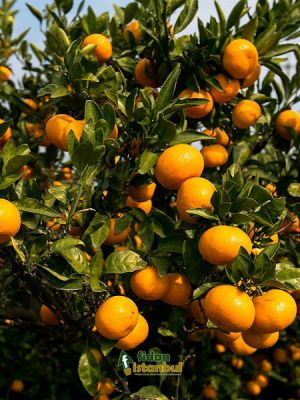portakal: (190, 225, 271, 274), (81, 284, 141, 338), (196, 283, 256, 332), (218, 30, 261, 80), (40, 114, 91, 152), (72, 24, 116, 66), (35, 294, 64, 334), (122, 14, 151, 51), (278, 108, 299, 145), (11, 369, 27, 397)
